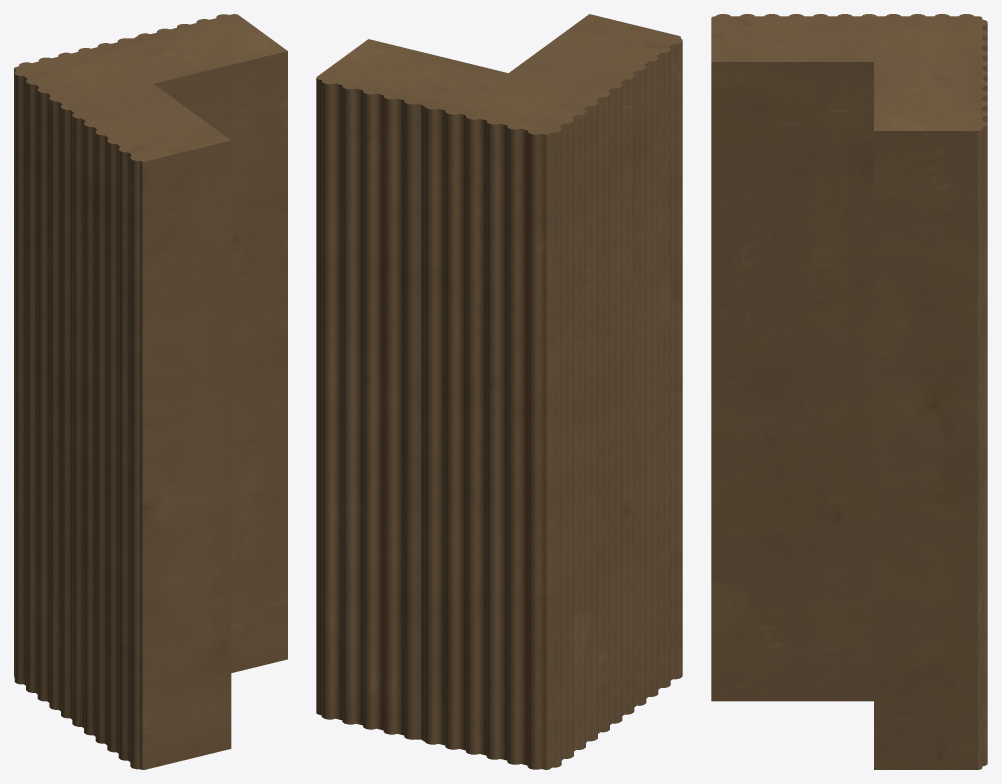
Rendered from SM_Building02GroundCornerR.fbx.
The picture shows the model from 3 angles, left to right: view 1: azimuth 30°, elevation 25°; view 2: azimuth 150°, elevation 25°; view 3: azimuth 270°, elevation 25°; orthographic projection. The views are drawn at different scales.
Parts seen in each view (by area): view 1: SM_Building02GroundCornerR_LOD0; view 2: SM_Building02GroundCornerR_LOD0; view 3: SM_Building02GroundCornerR_LOD0.
Part boxes in pixels (left/top/right/bottom): SM_Building02GroundCornerR_LOD0: left=14, top=14, right=287, bottom=769; SM_Building02GroundCornerR_LOD0: left=316, top=14, right=682, bottom=769; SM_Building02GroundCornerR_LOD0: left=711, top=14, right=987, bottom=769.
Size of the model in its own units: 153 by 153 by 390.
Materials: 1 (1 with a texture image).
